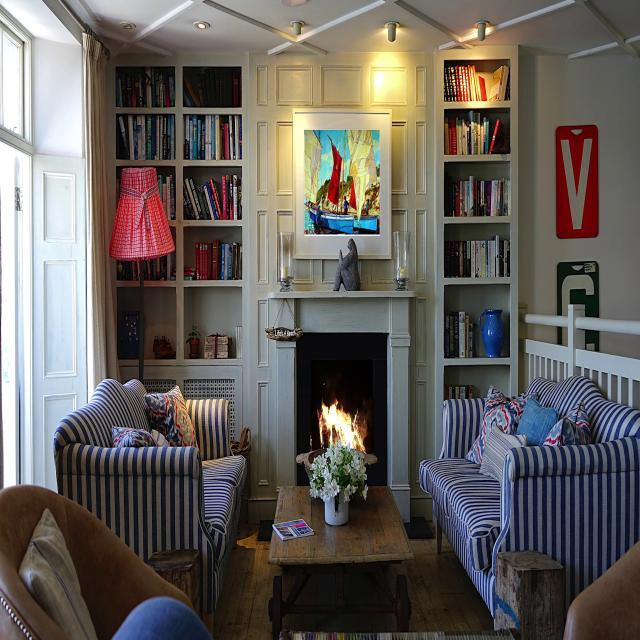Fire: (313, 393, 366, 457)
